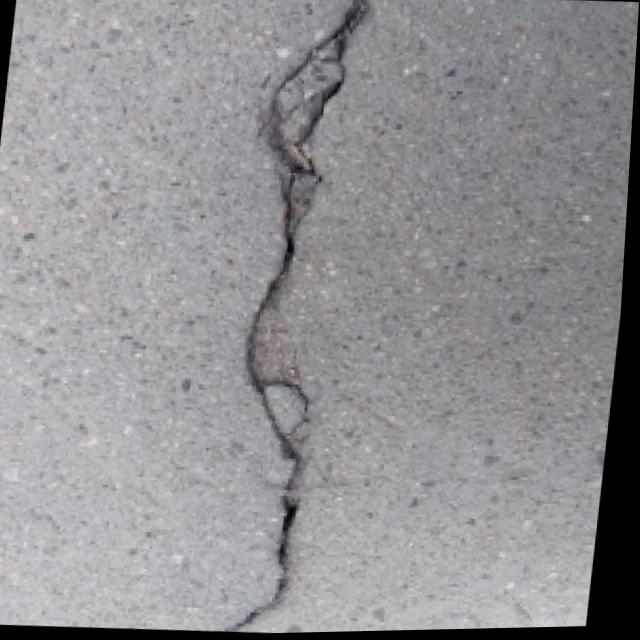Crack: (195, 0, 390, 636)
